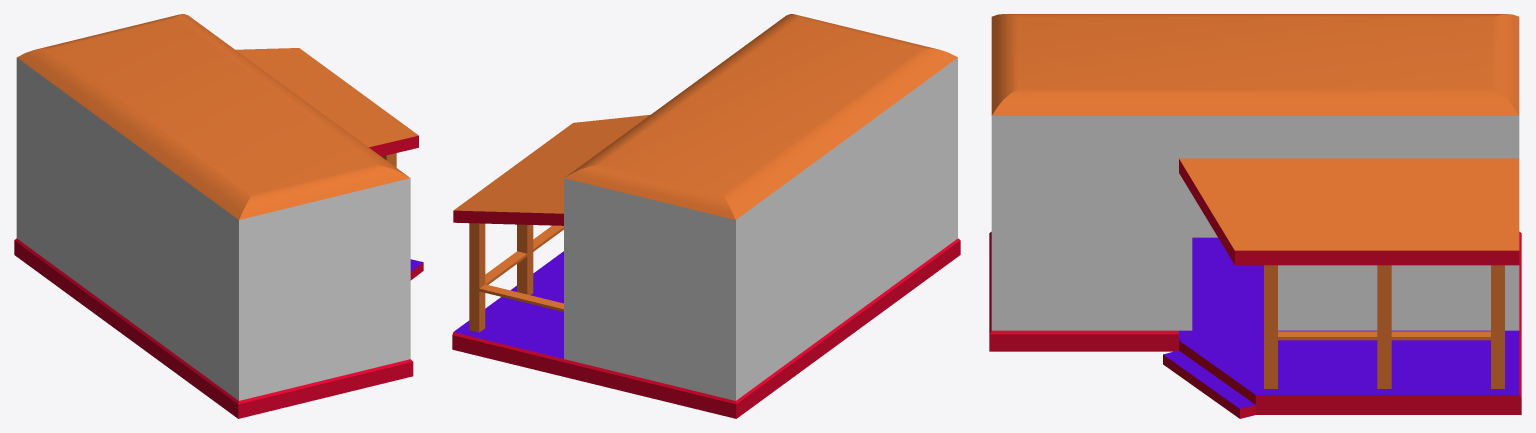
The model's file is CEON_RESTO.glb.
3 views of the same model, side by side, from view 1: azimuth 30°, elevation 25°; view 2: azimuth 150°, elevation 25°; view 3: azimuth 270°, elevation 25° (orthographic). The views are drawn at different scales.
Parts seen in each view (by area): view 1: RESTO; view 2: RESTO; view 3: RESTO.
Boxes of the visible parts, x1,y1,x2,y2 form: RESTO: (14,14,423,418); RESTO: (452,14,960,418); RESTO: (989,14,1521,418).
Size of the model in its own units: 6.72 by 4.62 by 8.97.
